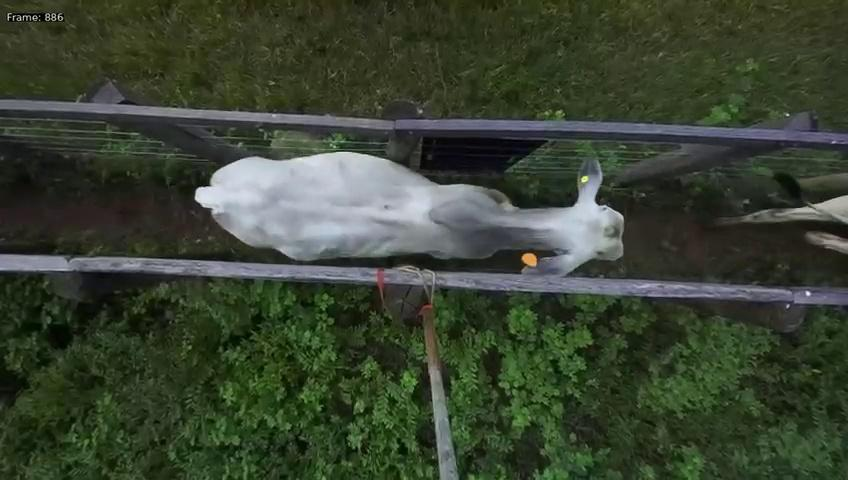cattle: (193, 131, 625, 275)
